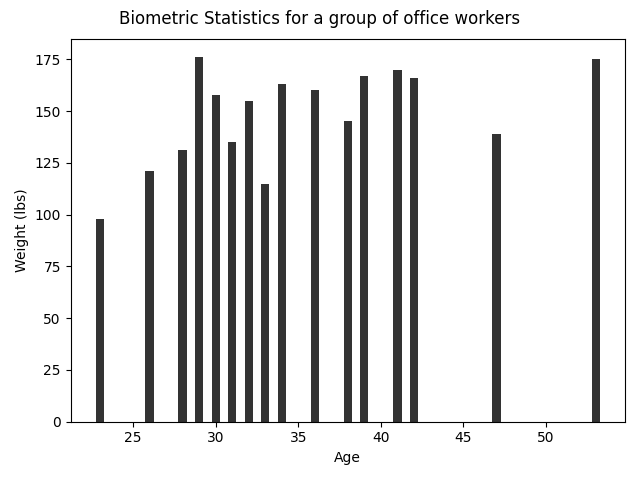canvas: (89, 53, 611, 422)
title: (114, 4, 522, 29)
x-axis: (64, 420, 631, 429)
x-labels: (121, 430, 557, 445)
x-title: (323, 448, 370, 469)
y-axis: (63, 35, 75, 425)
y-labels: (33, 49, 64, 432)
y-title: (10, 185, 31, 281)
